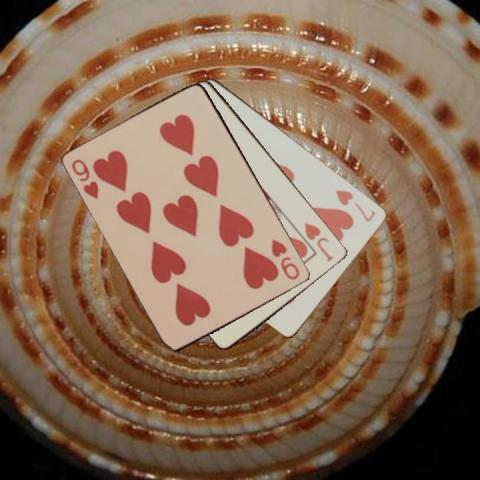7h: (334, 187, 377, 223)
9h: (268, 236, 301, 281), (69, 156, 100, 201)
Jh: (302, 220, 336, 263)
